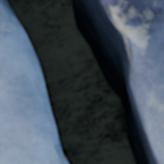broken_brick: (0, 3, 65, 163), (109, 0, 163, 163)
crack: (0, 0, 161, 163)
